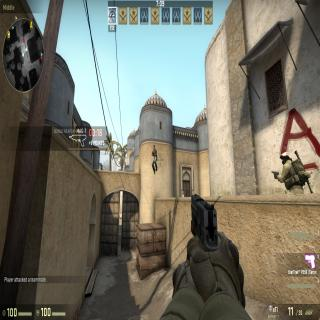CT-Body: (278, 150, 305, 193)
CT-Head: (279, 150, 291, 164)
T-Body: (151, 144, 157, 174)
T-Head: (153, 145, 155, 150)
